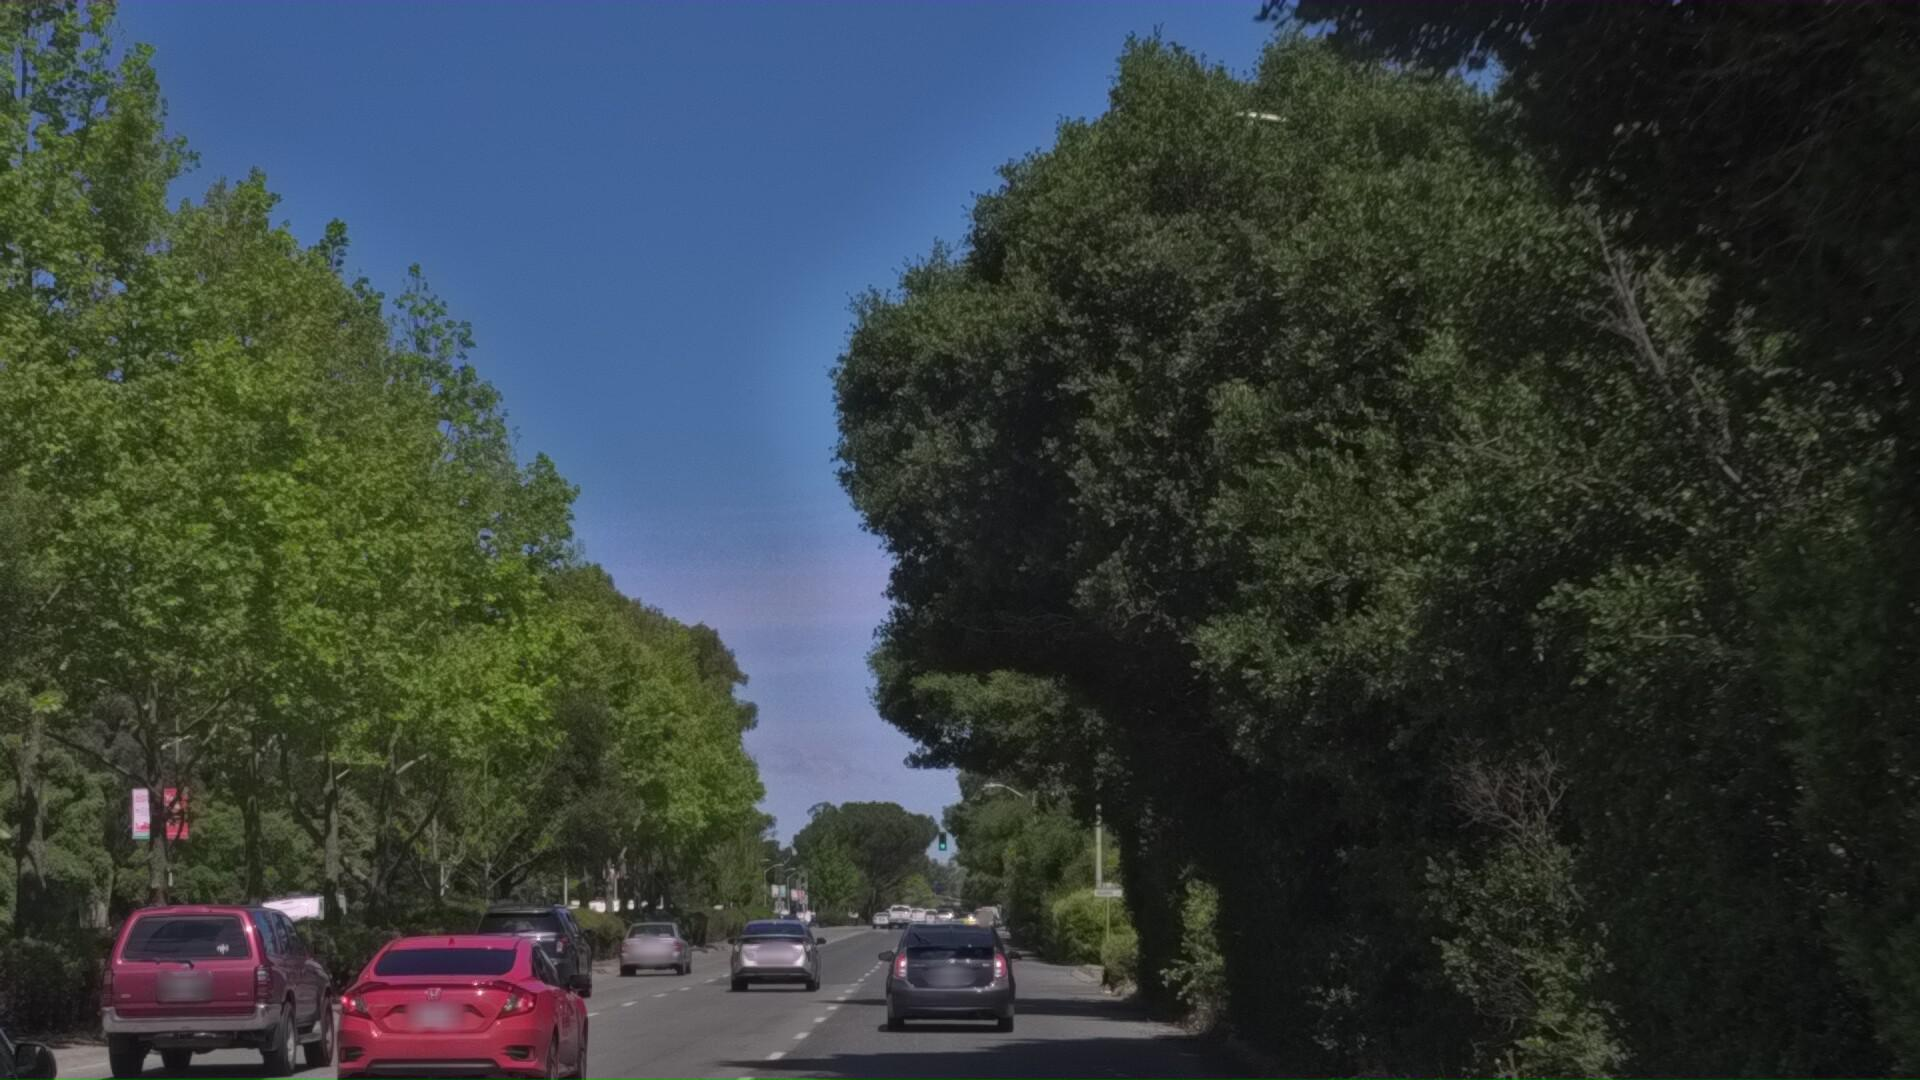car: (98, 971, 357, 1080), (328, 1000, 603, 1080), (0, 936, 115, 1080), (483, 982, 615, 1080), (868, 1001, 1030, 1080), (717, 1000, 825, 1080)
